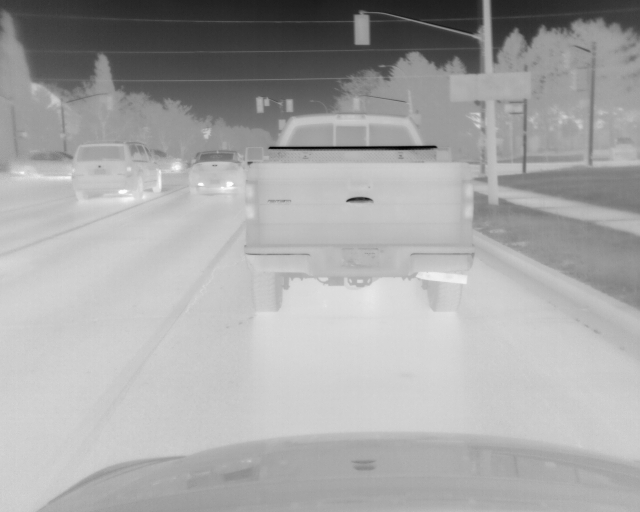car: (241, 111, 476, 316), (72, 140, 160, 202), (187, 150, 248, 194), (8, 150, 76, 180), (153, 147, 188, 174)
